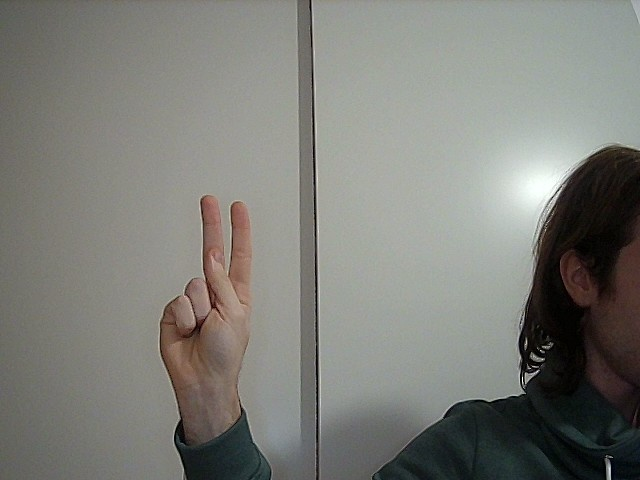k: (132, 190, 277, 377)
